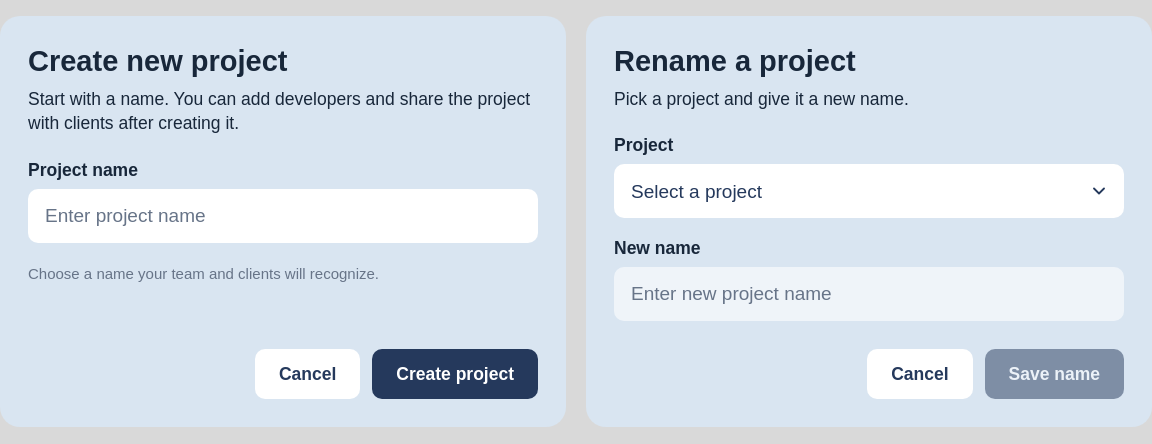
Test case: Creating projects › shows Creating... while the request is pending
The image size is (1152, 444).
Type "New Project" into the field labelled "Project name". click: (283, 216)
box: x1=28 y1=189 x2=538 y2=243
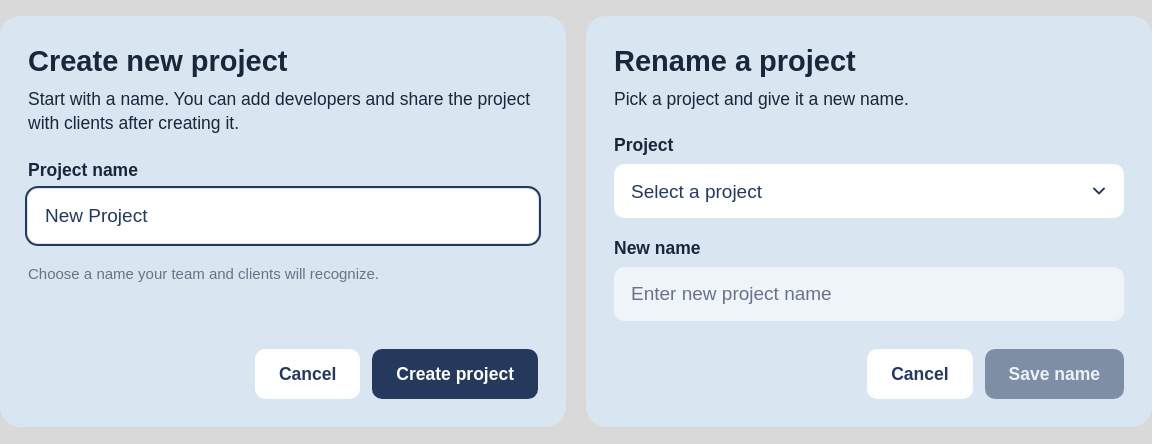
Click the button "Create project". click: (455, 374)
box: x1=372 y1=349 x2=538 y2=399
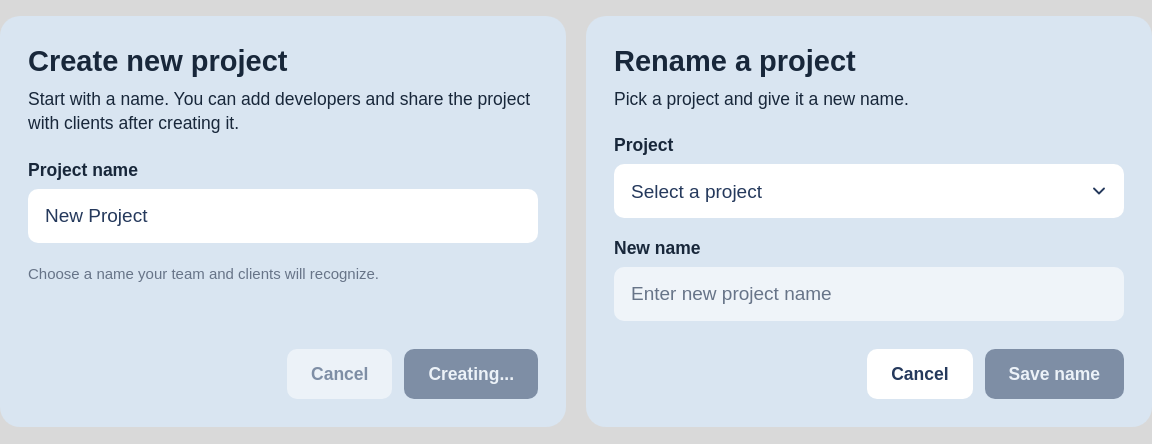
Expected: the button "Creating..." is disabled, x1=404 y1=349 x2=538 y2=399
Expected: the button "Cancel" below "Project name" is disabled, x1=287 y1=349 x2=392 y2=399
